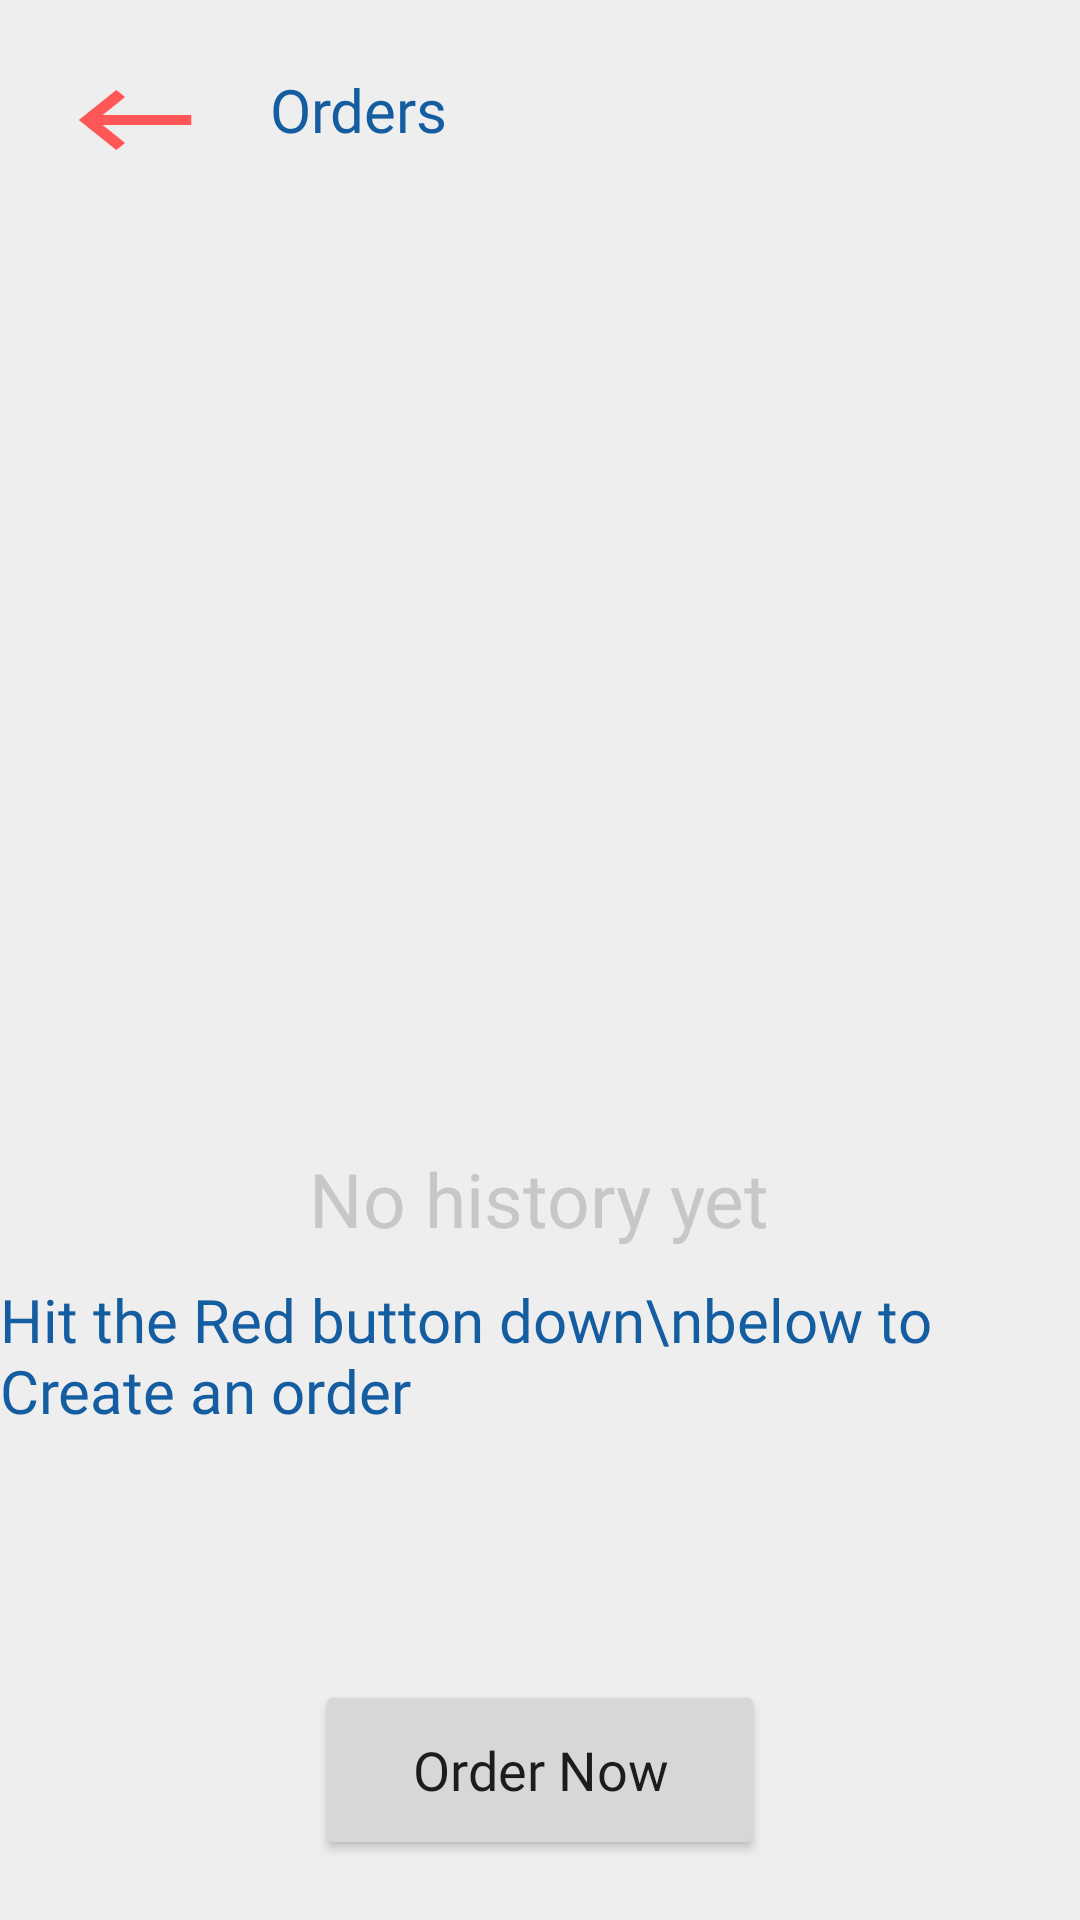

Where to tap for icons on this 1080w x 1920h app screen, as point (x, y):
back: point (135, 120)
